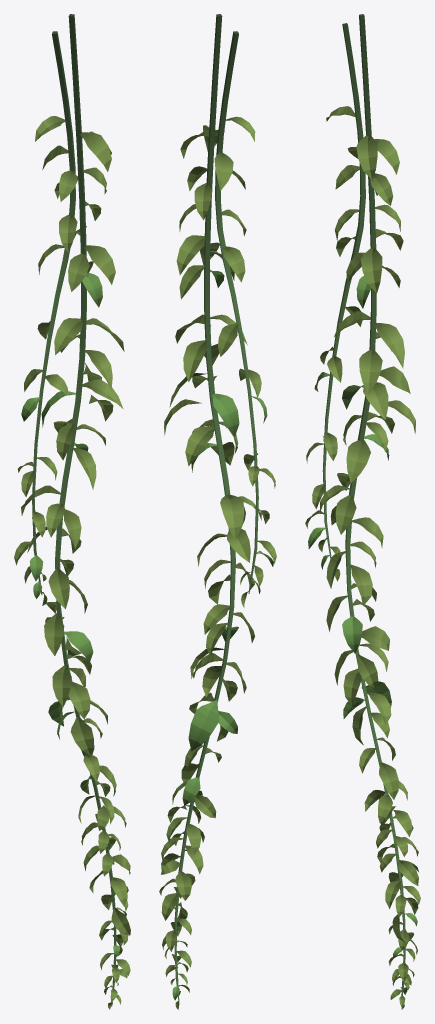
The model's file is Jungle_LeafyVines_D.fbx.
3 renders of one model, left to right at view 1: azimuth 30°, elevation 25°; view 2: azimuth 150°, elevation 25°; view 3: azimuth 330°, elevation 25°, orthographic.
Visible parts, largest first — view 1: Jungle_LeafyVines_D; view 2: Jungle_LeafyVines_D; view 3: Jungle_LeafyVines_D.
Part boxes in pixels (x1,y1,x2,y2): Jungle_LeafyVines_D: [14, 14, 130, 1009]; Jungle_LeafyVines_D: [159, 14, 276, 1009]; Jungle_LeafyVines_D: [305, 14, 420, 1009].
Bounding box in the file's own units: 1.09 × 9.19 × 0.6251.
Materials: 1 (1 with a texture image).
